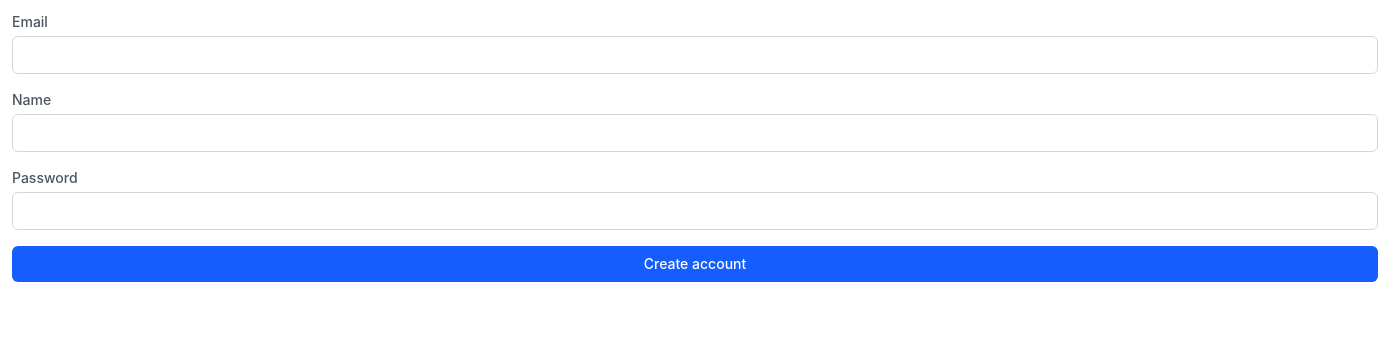
Test: RegisterForm shows error alert on failed registration
Type "existing@example.com" into the field labelled "Email" at (695, 55), box left=12, top=36, right=1378, bottom=74
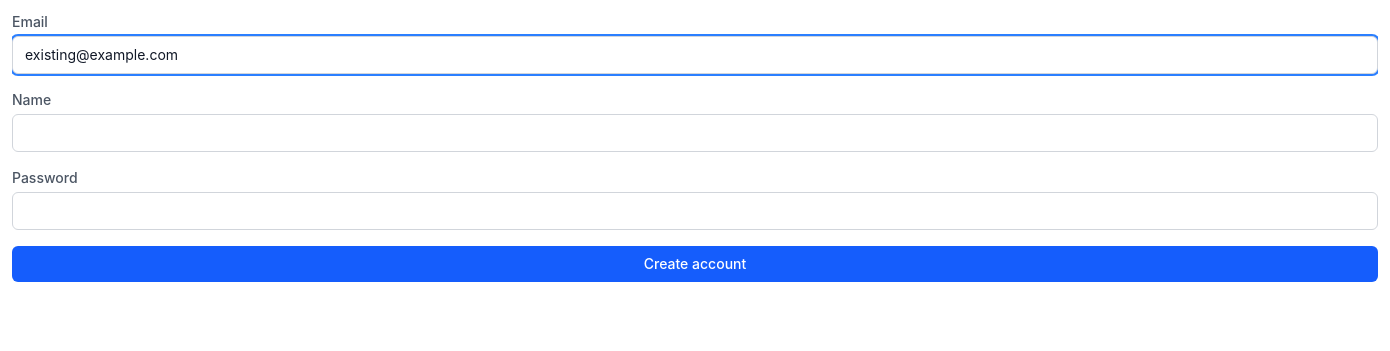
Type "Someone" into the field labelled "Name" at (695, 133), box left=12, top=114, right=1378, bottom=152
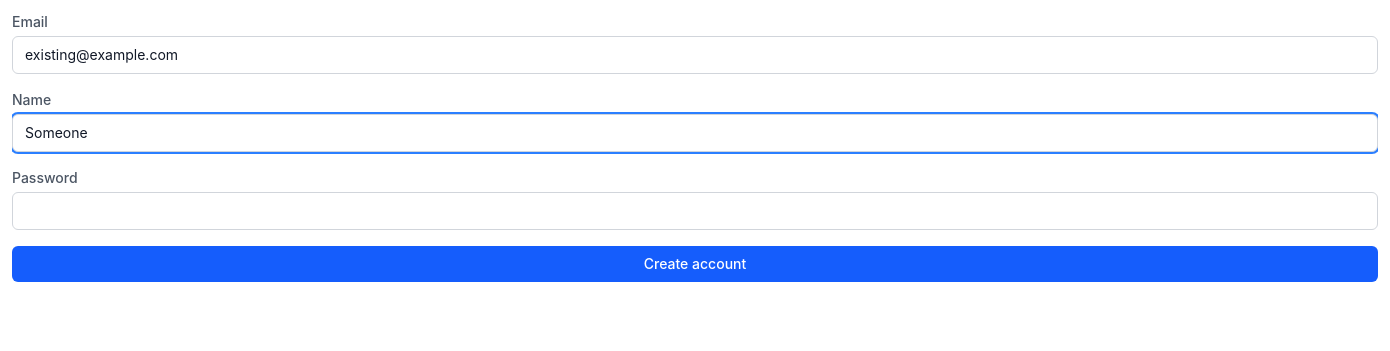
Type "SecurePass1!" into the password field labelled "Password" at (695, 211), box left=12, top=192, right=1378, bottom=230
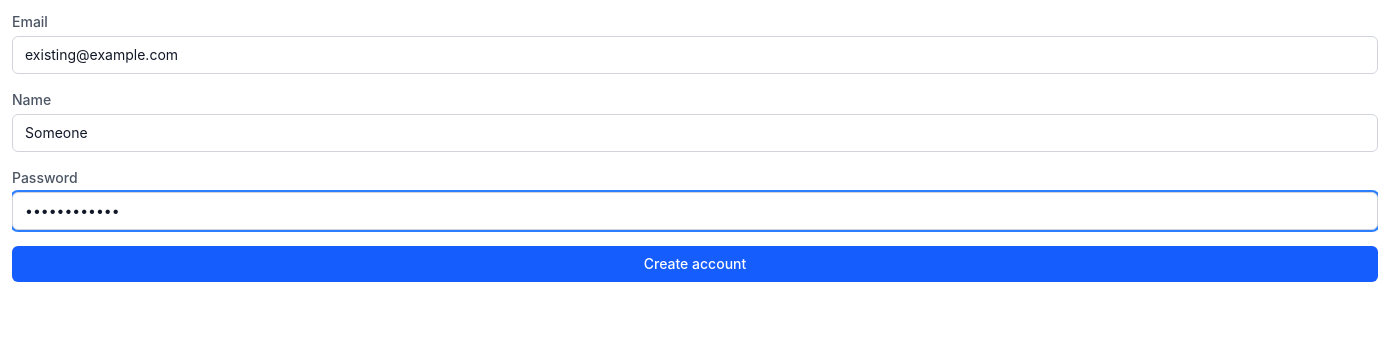
Click the button "Create account" at (695, 264), box left=12, top=246, right=1378, bottom=282
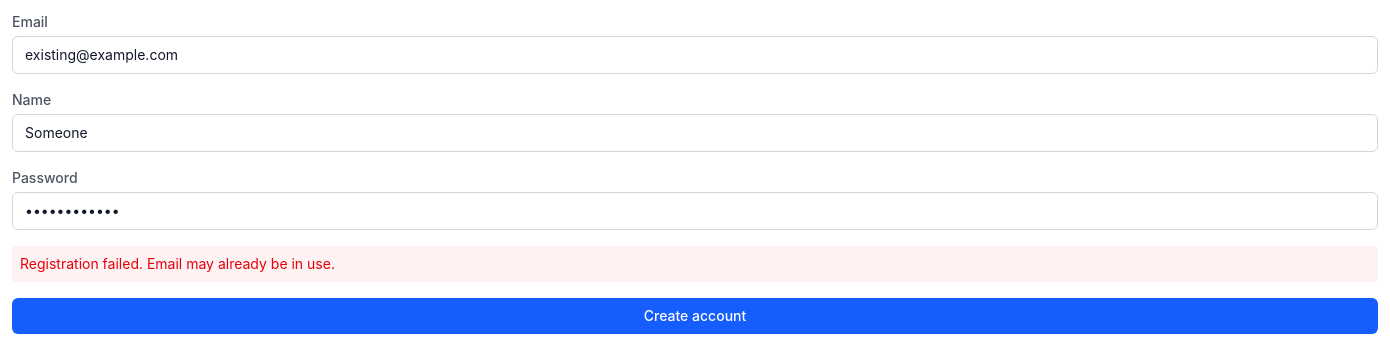
Expected: the message "Registration failed. Email may already be in use." is shown, left=12, top=246, right=1378, bottom=282
